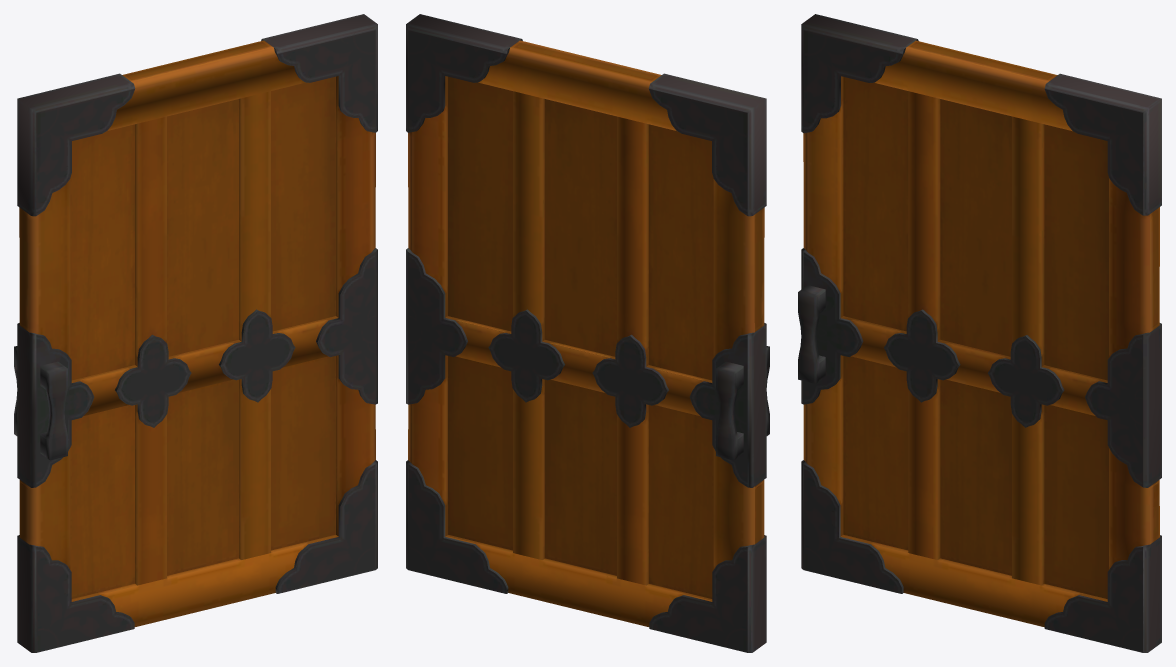
The model's file is door_japanese_as.glb.
3 views of the same model, side by side, from view 1: azimuth 30°, elevation 25°; view 2: azimuth 150°, elevation 25°; view 3: azimuth 330°, elevation 25° (orthographic).
Parts seen in each view (by area): view 1: BodyS2_1__mDoorS; view 2: BodyS2_1__mDoorS; view 3: BodyS2_1__mDoorS.
Boxes of the visible parts, x1,y1,x2,y2 form: BodyS2_1__mDoorS: (14,14,377,652); BodyS2_1__mDoorS: (406,14,769,652); BodyS2_1__mDoorS: (798,14,1161,652).
Bounding box in the file's own units: 12 × 18 × 2.16.
Materials: 1 (1 with a texture image).
